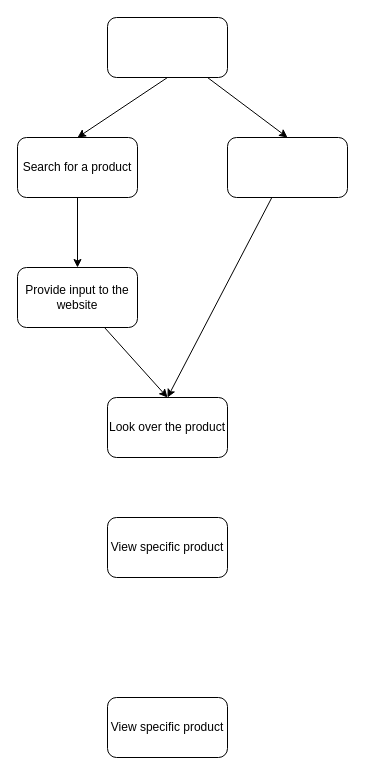
The diagram is 365 pixels wide and 775 high, and some of its shapes have lost their labels. Here are the shapes that lost their labels. From the top down, the box of each, then its label:
(106, 16, 228, 78): User enters the website
(226, 136, 348, 198): Explore the product on the Home Page
